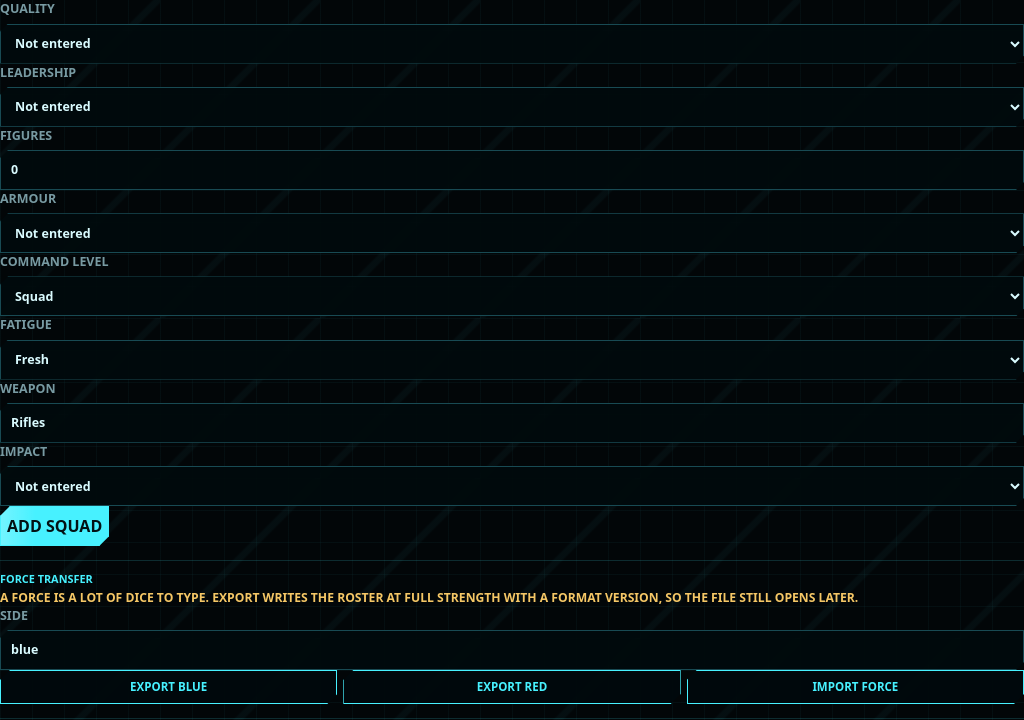
Test: StarGruntView force export › says so when the snapshot carries no roster to write
(page scrolled)
Click the button "Export blue": point(169, 687) [0,670,337,704]
(page scrolled)
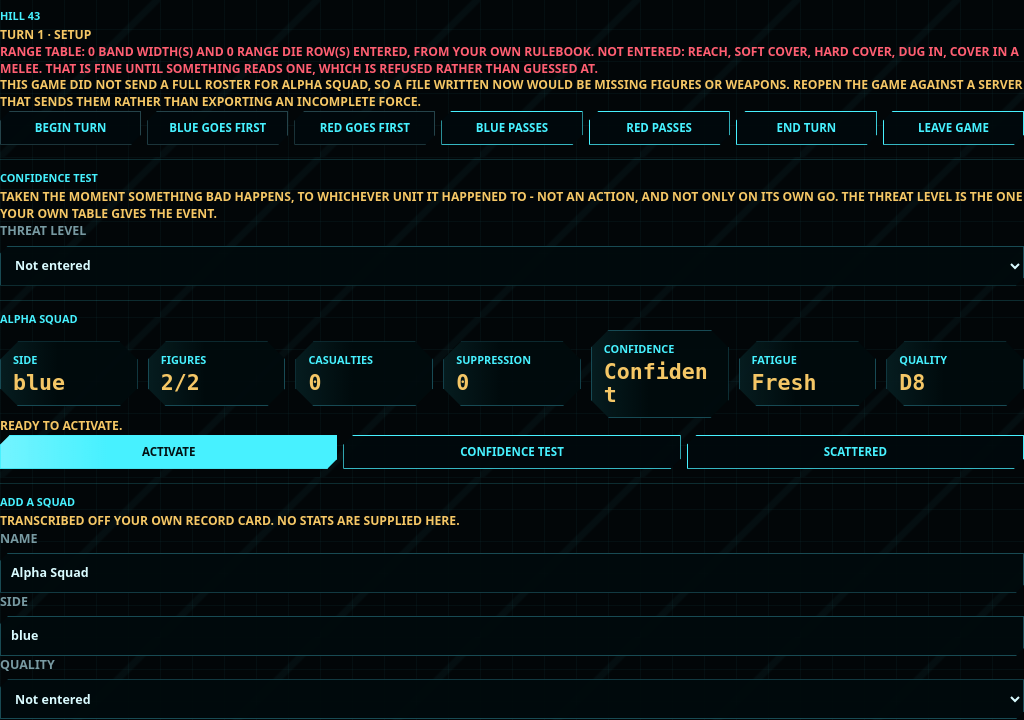
Expected: the message shows "Alpha Squad", [0,76,1022,110]
